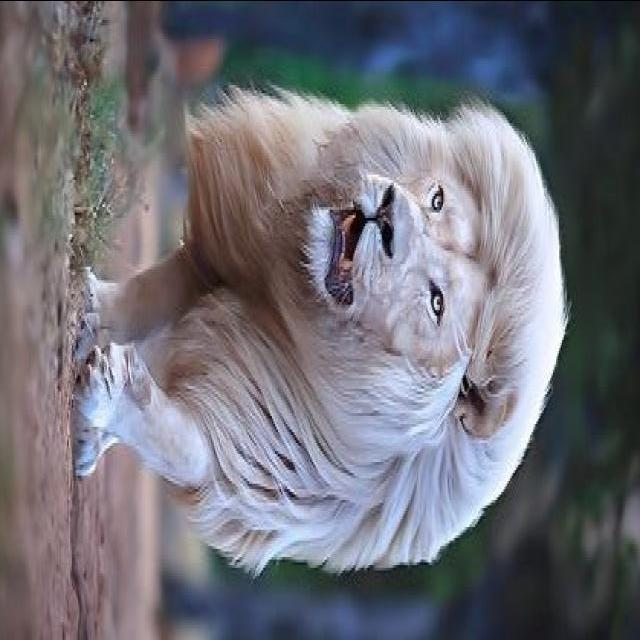lions: (13, 5, 640, 585)
